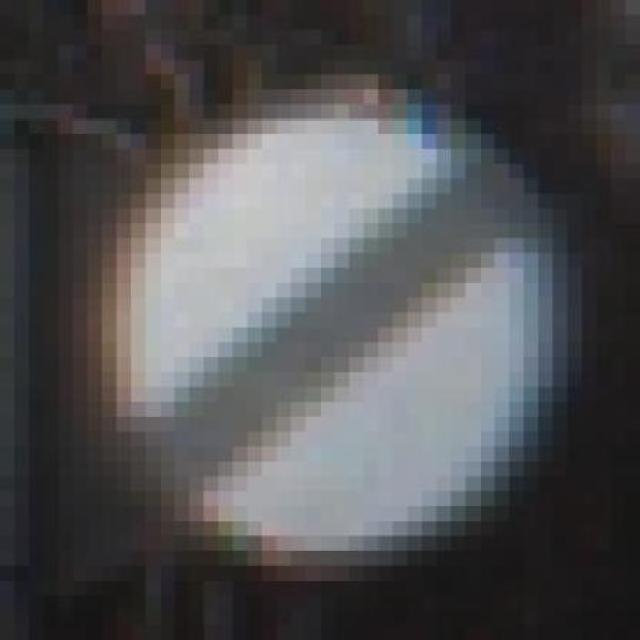End of all speed and passing limits: (102, 89, 568, 566)
